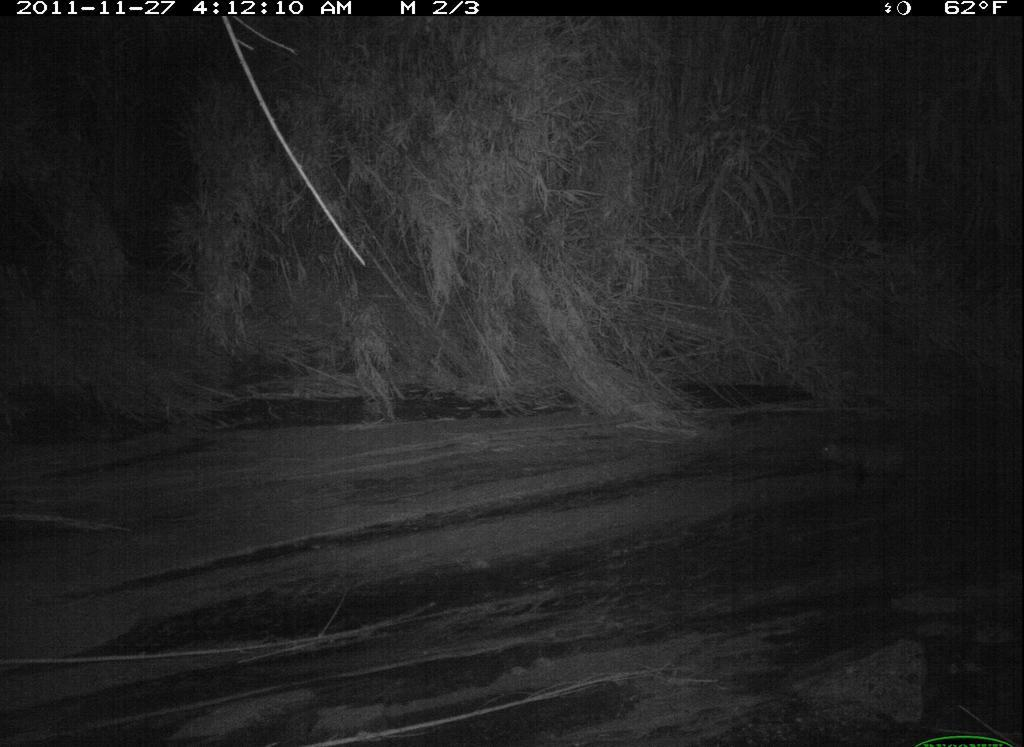opossum: (818, 419, 925, 501)
